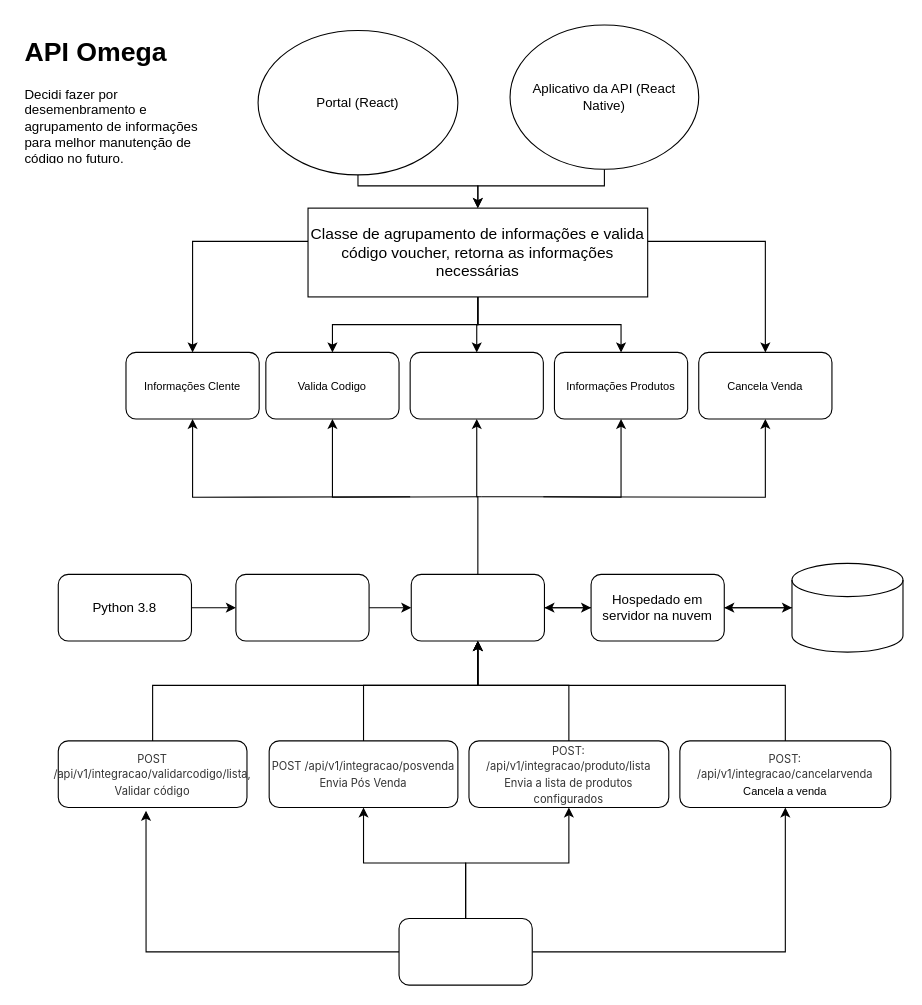
This 922x1005 diagram has some shape labels left out. Here are the shapes that lost their labels. From the top down, the centre of each, then its label:
point 476,385: Informções Clientes
point 302,607: Flask 2.2.2
point 477,607: API Omega
point 847,607: Banco de dados
point 465,951: APP CONSUMIDOR AUTOSYSTEM
